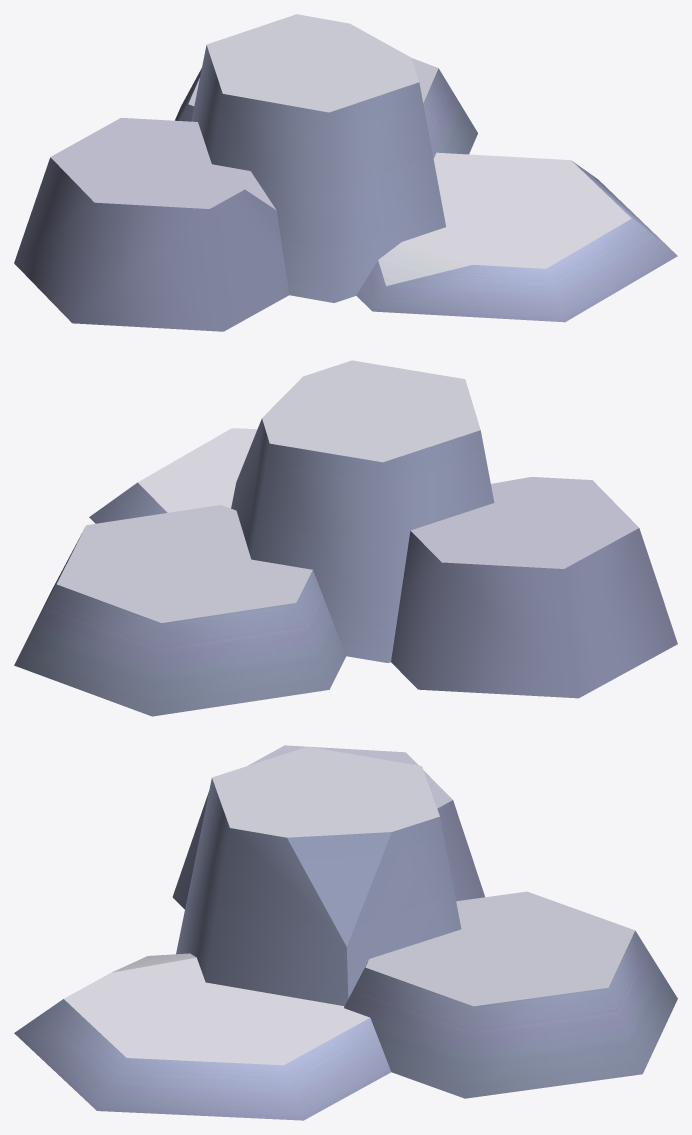
Rendered from snow-detail-rocks.glb.
The picture shows the model from 3 angles, top to bottom: view 1: azimuth 30°, elevation 25°; view 2: azimuth 150°, elevation 25°; view 3: azimuth 270°, elevation 25°; orthographic projection. The views are drawn at different scales.
Parts seen in each view (by area): view 1: snow-detail-rocks; view 2: snow-detail-rocks; view 3: snow-detail-rocks.
Boxes of the visible parts, <box> form: snow-detail-rocks: <box>14,14,677,331</box>; snow-detail-rocks: <box>14,360,677,716</box>; snow-detail-rocks: <box>14,745,677,1120</box>.
Bounding box in the file's own units: 0.5976 × 0.1844 × 0.6055.
1 material, 1 textured.
